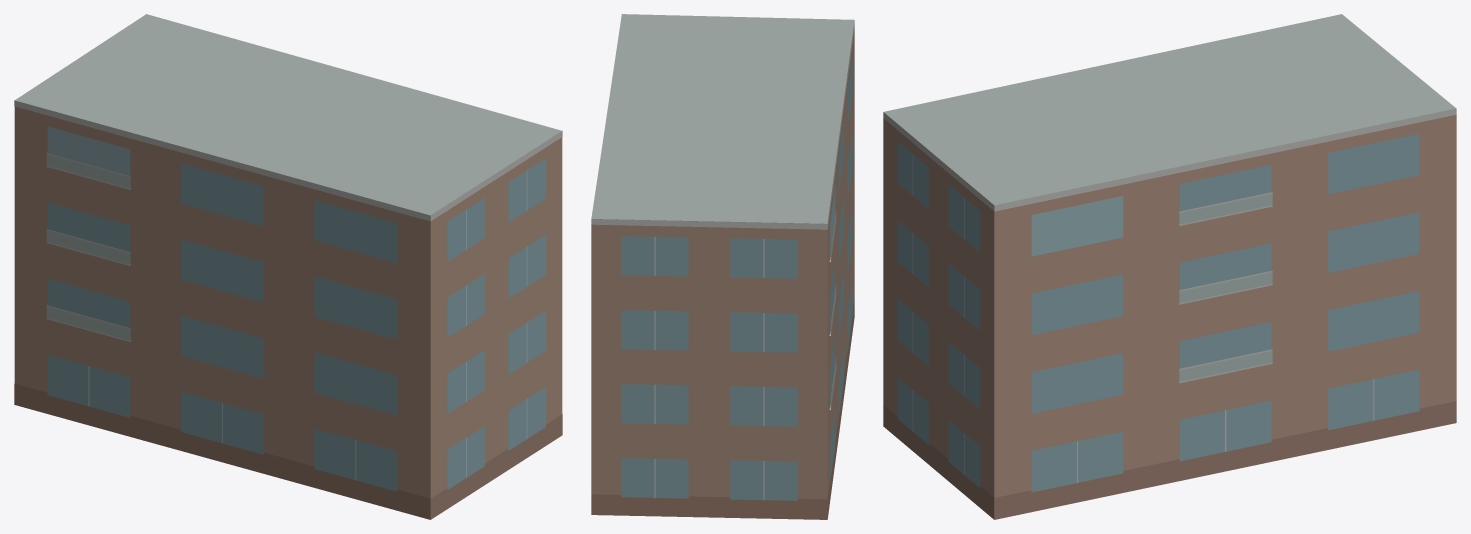
The model's file is survey-upis-33035014.glb.
3 renders of one model, left to right at view 1: azimuth 30°, elevation 25°; view 2: azimuth 150°, elevation 25°; view 3: azimuth 270°, elevation 25°, orthographic. The views are drawn at different scales.
Parts seen in each view (by area): view 1: survey-upis-33035014.tmp; view 2: survey-upis-33035014.tmp; view 3: survey-upis-33035014.tmp.
Boxes of the visible parts, bbox=[...] form: survey-upis-33035014.tmp: bbox=[14, 14, 562, 519]; survey-upis-33035014.tmp: bbox=[591, 14, 854, 519]; survey-upis-33035014.tmp: bbox=[883, 14, 1456, 519].
Size of the model in its own units: 16.2 by 12.4 by 20.5.
